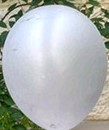Balloon: (2, 5, 106, 130)
